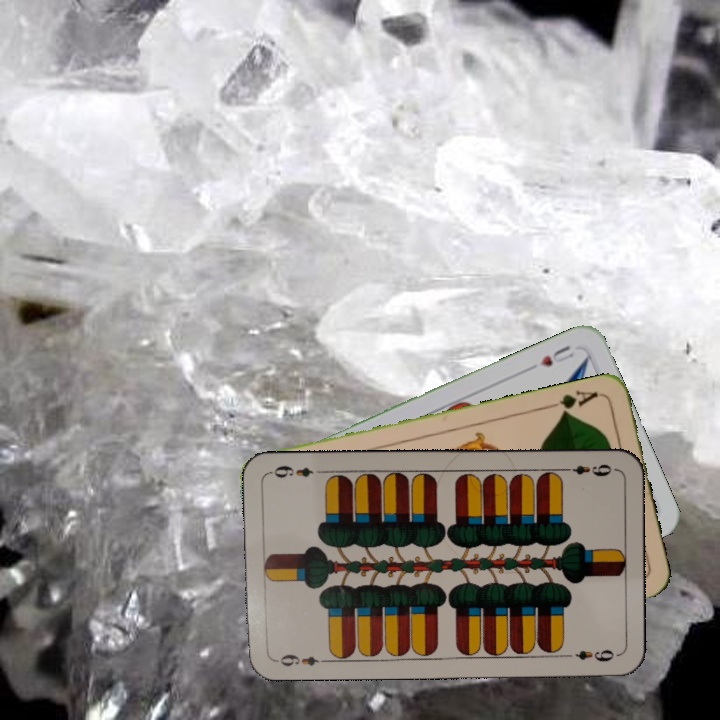E9: (270, 650, 329, 669), (558, 459, 614, 479)
GA: (544, 386, 603, 419)
HU: (525, 341, 577, 373)
